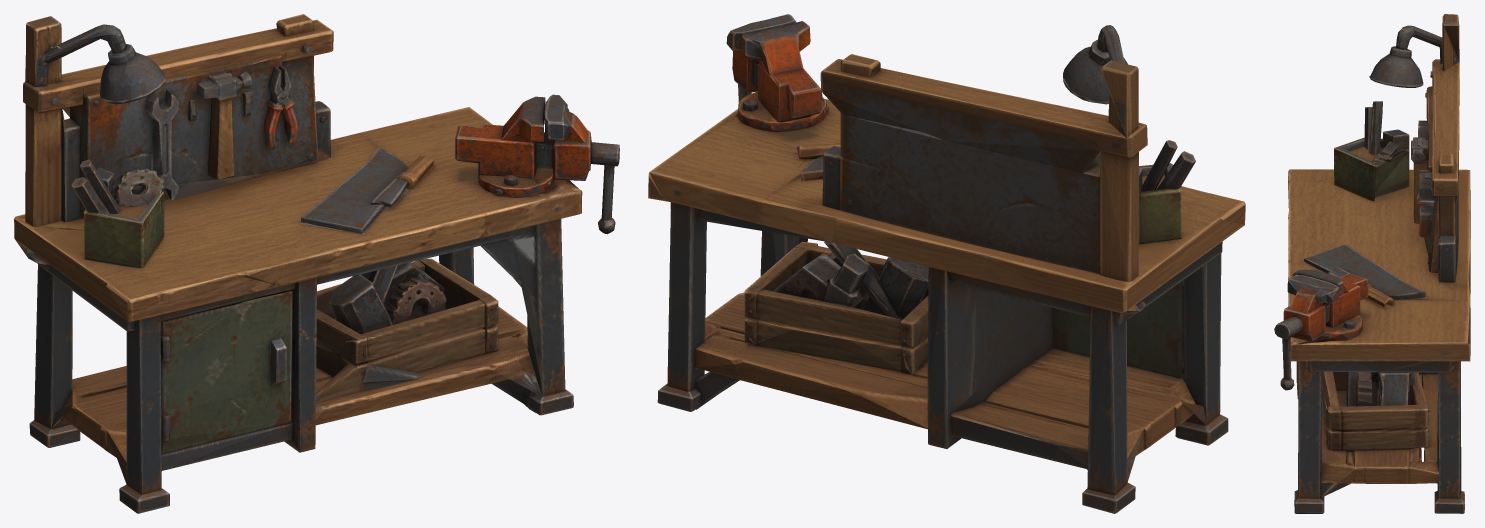
The model's file is workbench.glb.
The picture shows the model from 3 angles, left to right: view 1: azimuth 30°, elevation 25°; view 2: azimuth 150°, elevation 25°; view 3: azimuth 270°, elevation 25°; orthographic projection. The views are drawn at different scales.
Visible parts, largest first — view 1: Mesh_0; view 2: Mesh_0; view 3: Mesh_0.
Boxes of the visible parts, x1=… form: Mesh_0: x1=14, y1=14, x2=619, y2=513; Mesh_0: x1=648, y1=14, x2=1245, y2=513; Mesh_0: x1=1274, y1=14, x2=1470, y2=513.
Size of what is drawn, in the model's own units: 1.81 by 1.51 by 0.7913.
1 material, 1 textured.
